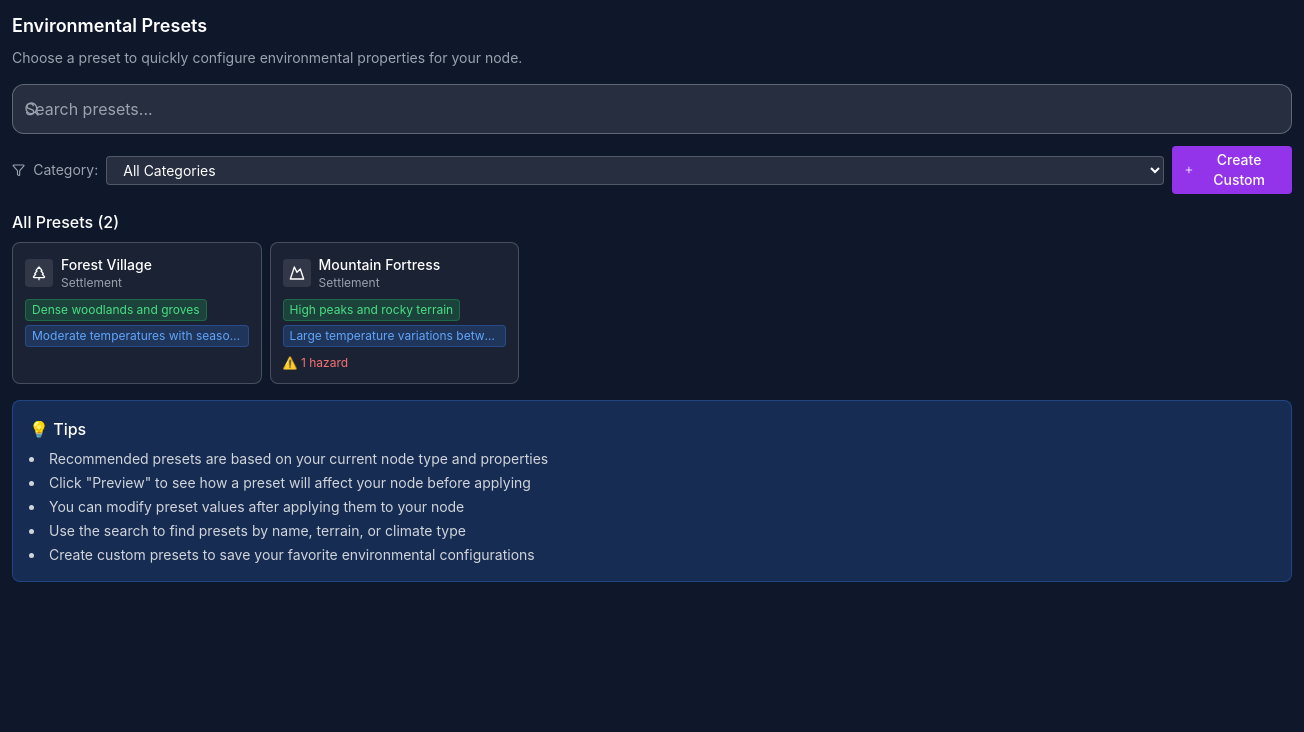
Test: EnvironmentalPresetSelector › clears filters when clear filters button is clicked with no results
Search for something that doesn't exist
Type "nonexistent" into the field with placeholder "Search presets..." at (652, 109), box [12,84,1292,134]
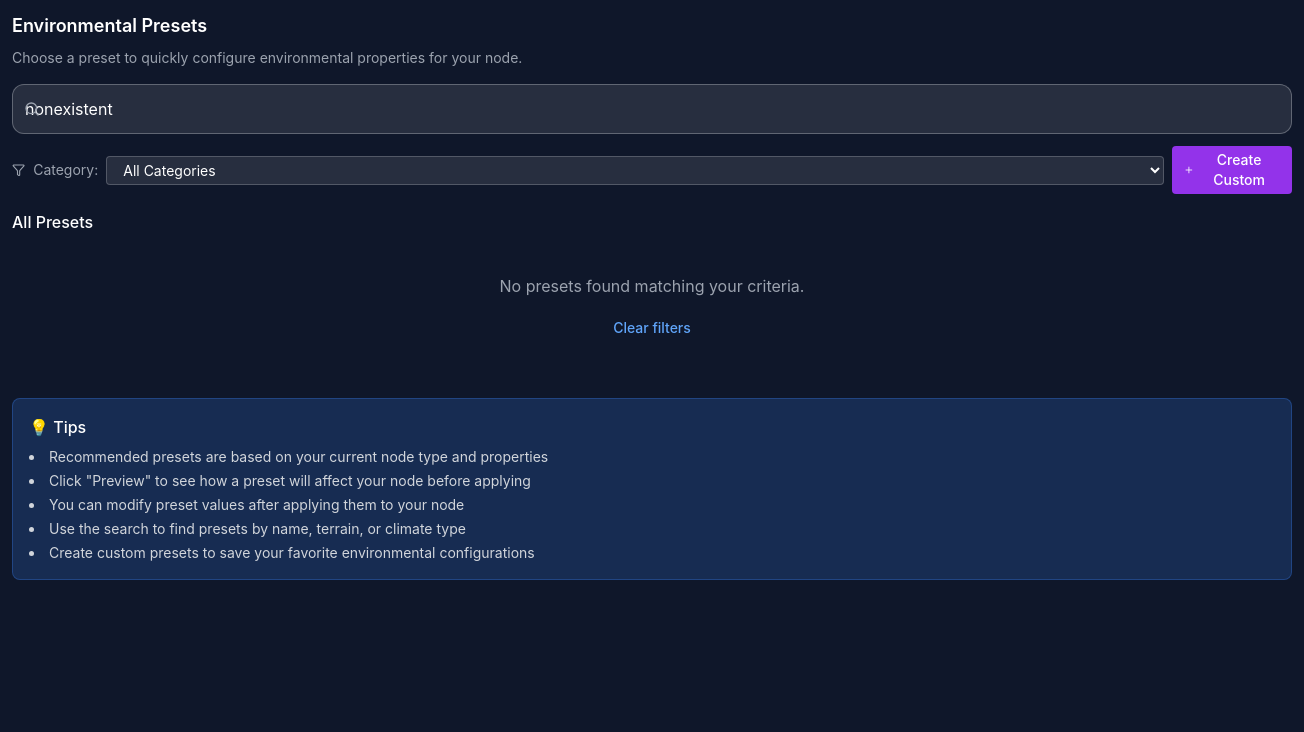
Check: the text "No presets found matching your criteria." is shown, box [500,276,804,296]
Click the button "Clear filters" at (652, 328), box [589,306,715,350]
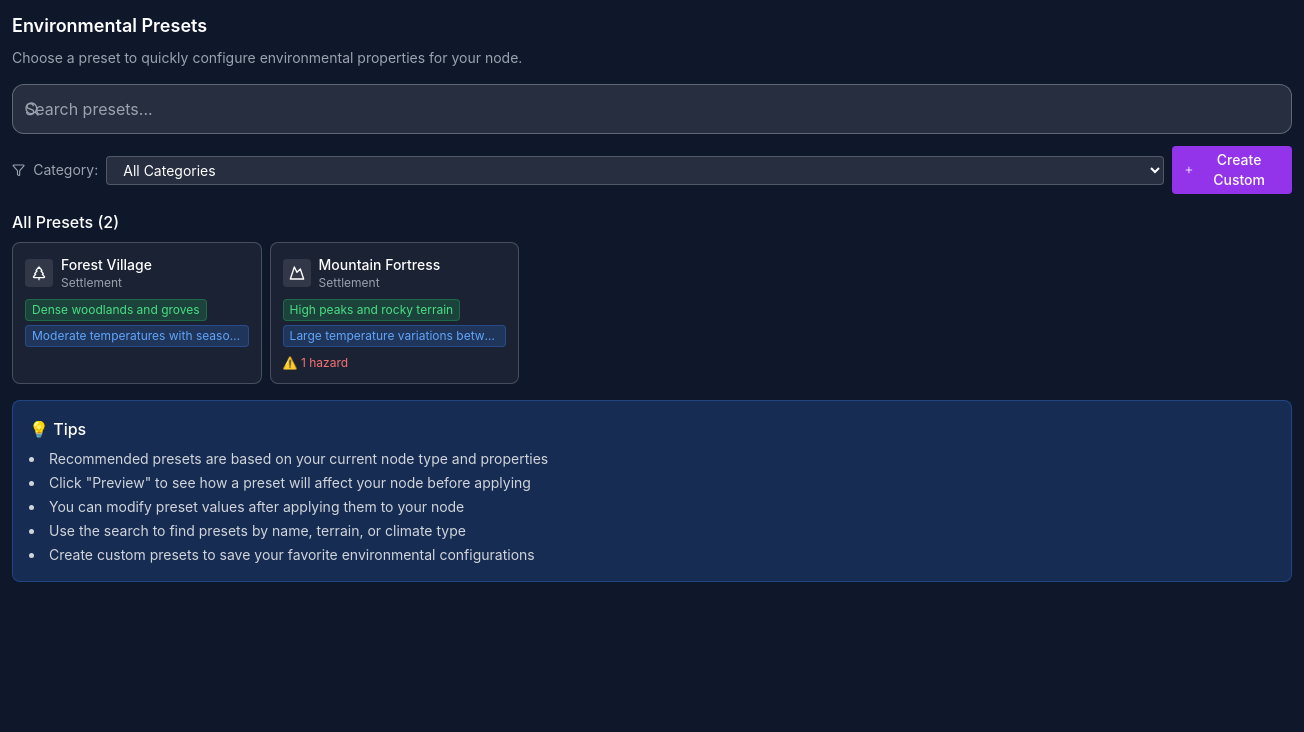
Check: the dropdown showing "All Categories" is shown, box [106,156,1164,184]
Check: the field with placeholder "Search presets..." is empty, box [12,84,1292,134]
